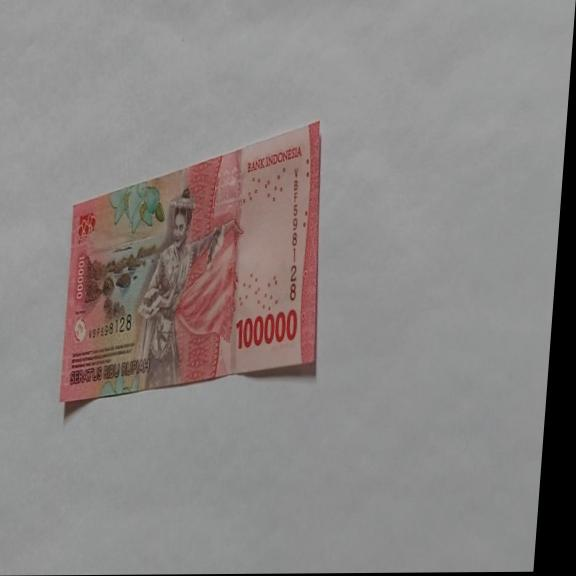Kertas: (57, 118, 335, 406), (234, 308, 299, 350)
